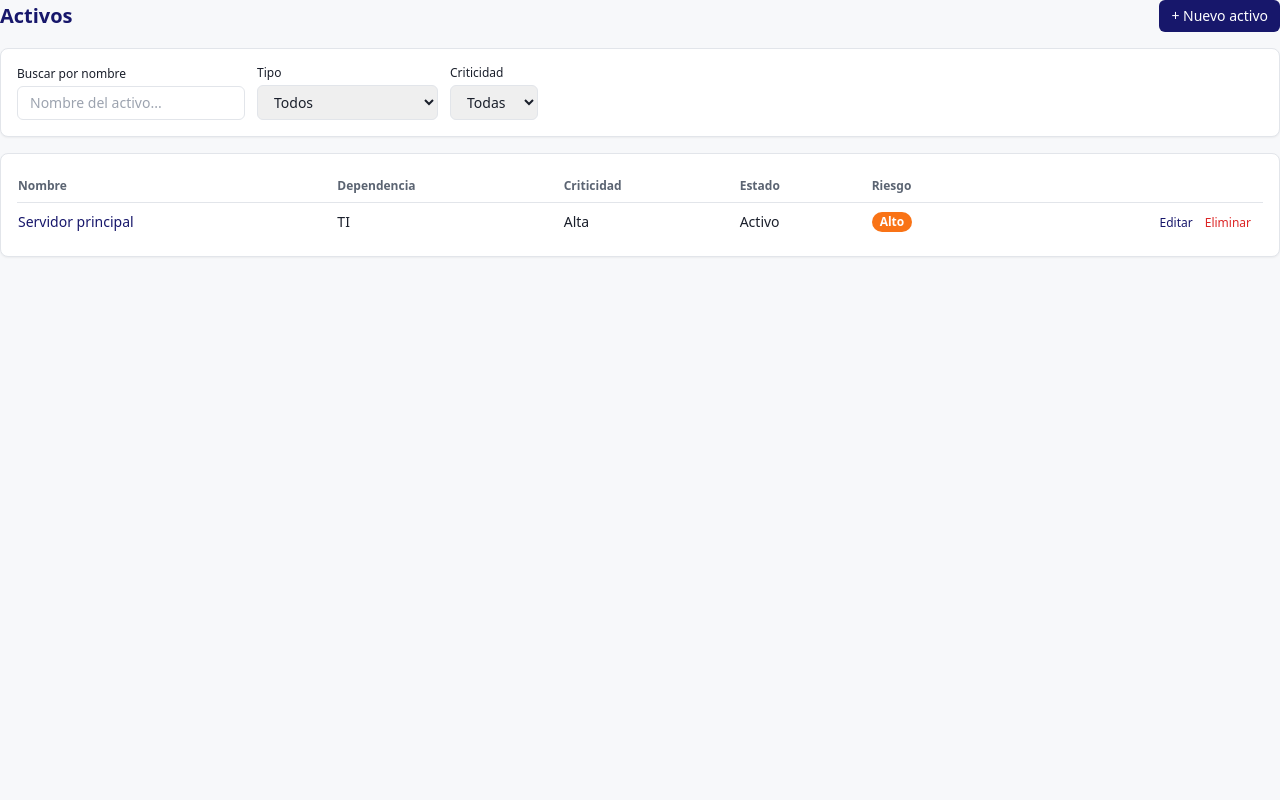
Test case: AssetsPage › lists assets and lets an admin edit, delete and create one
This screenshot has width=1280, height=800.
Expected: the link "Servidor principal" is shown, [18,212,134,230]
Click the button "Editar": x=1176, y=222 [1160,214,1193,230]
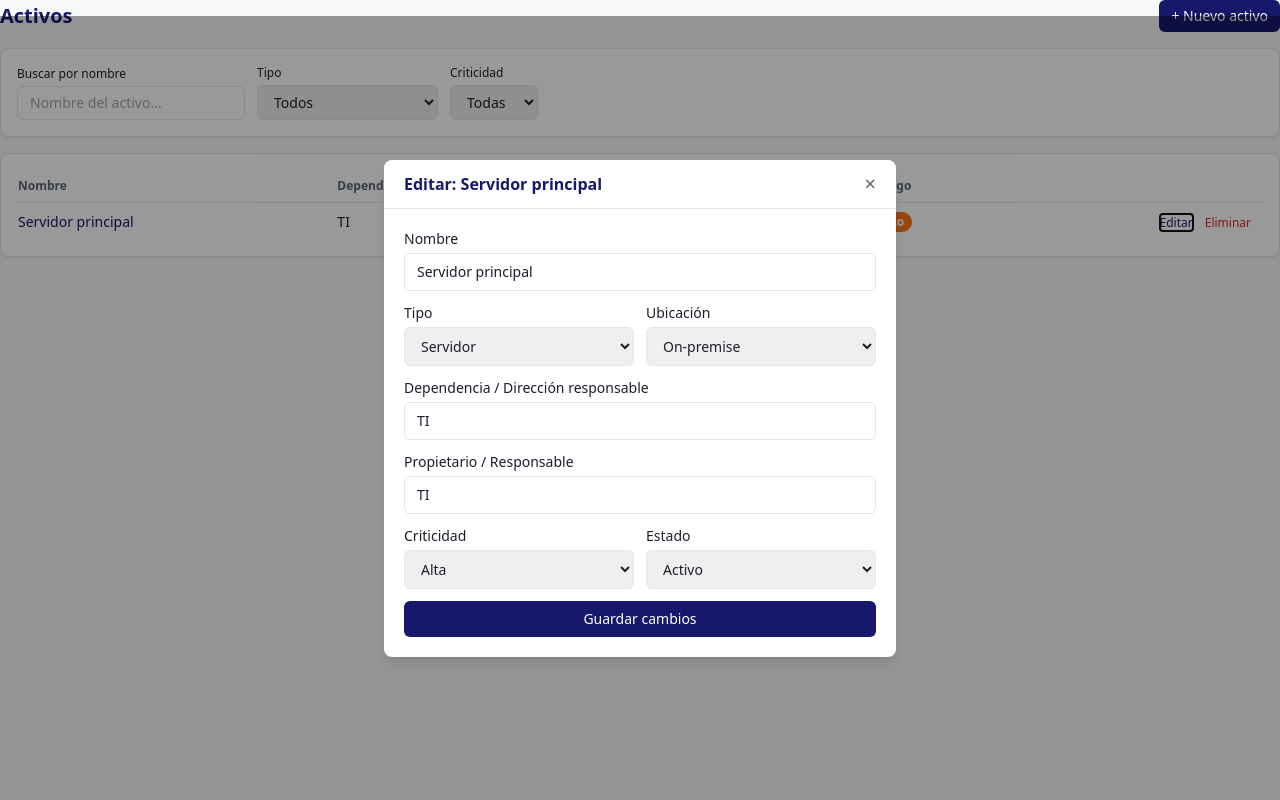
Expected: the heading "Editar: Servidor principal" is shown, [404,172,602,196]
Click the button "×": x=870, y=184 [864,174,876,194]
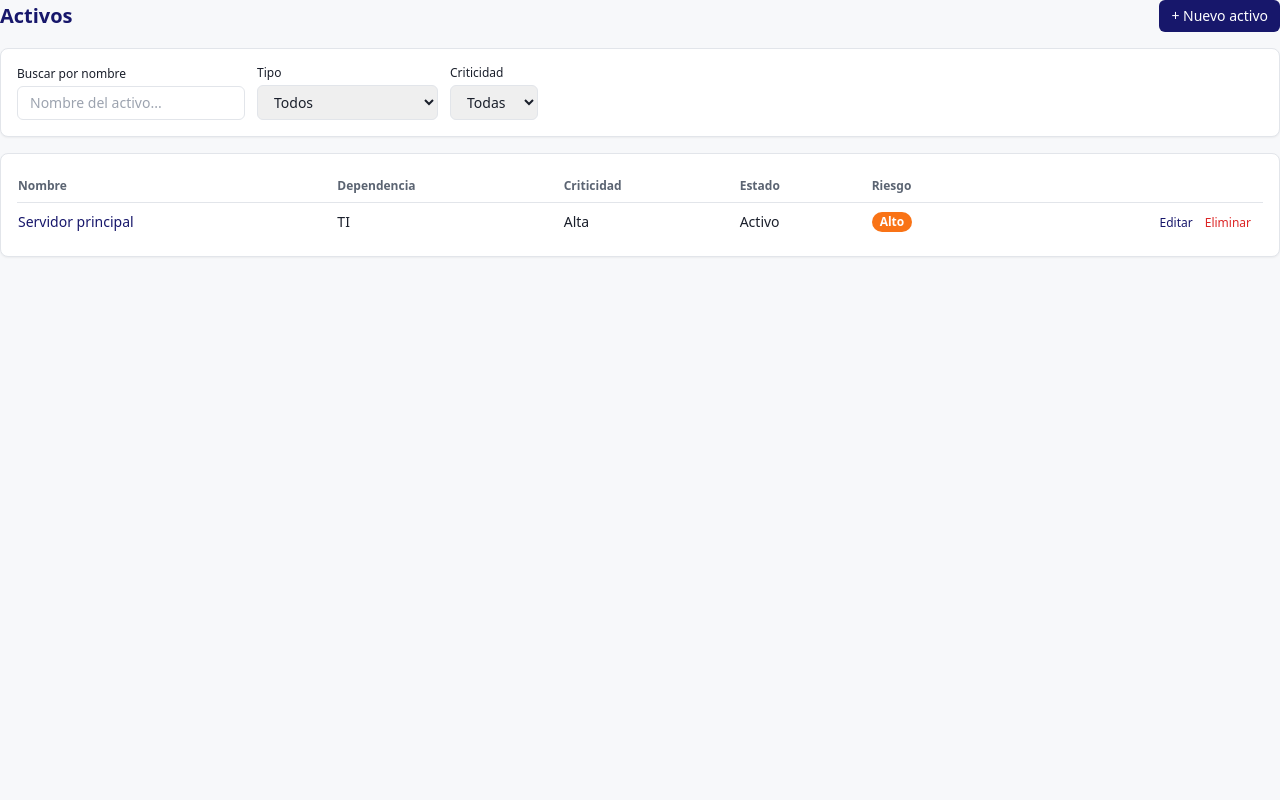
Expected: the heading "Editar: Servidor principal" is gone
Click the button "+ Nuevo activo": x=1220, y=16 [1159,0,1279,32]
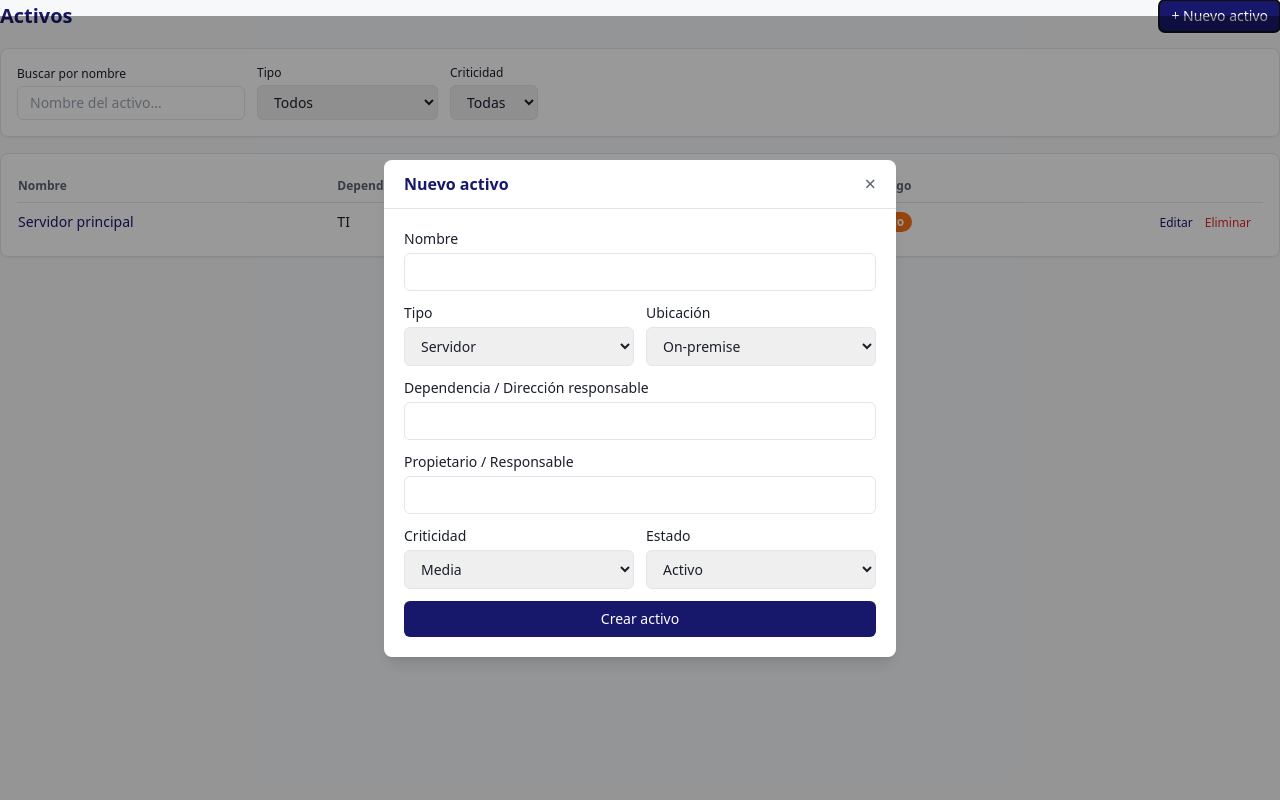
Expected: the heading "Nuevo activo" is shown, [404,172,508,196]
